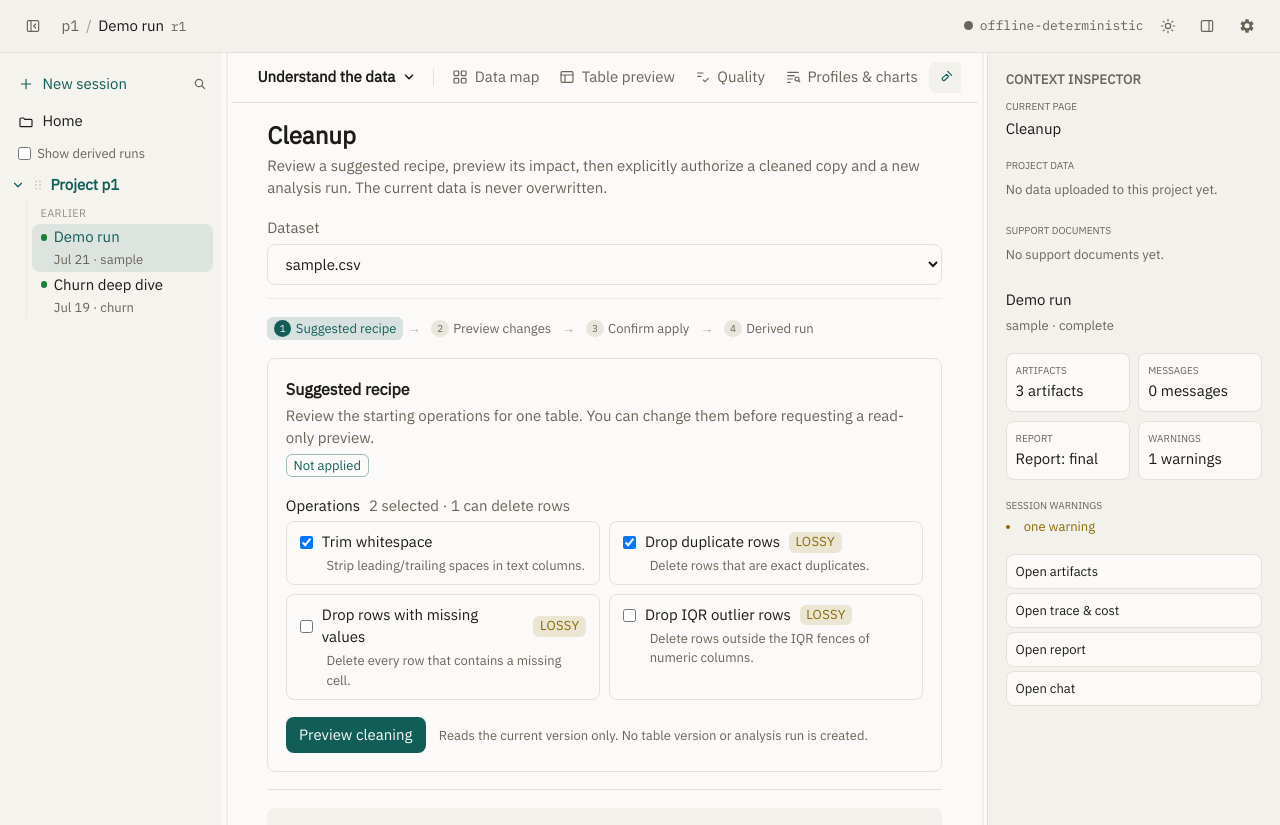
Test: Cleaning page › shows the whole preview → confirm → new run sequence up front
Expected: the text "Confirm apply" is shown, [608,320,689,337]
Expected: the text "Derived run" is shown, [746,320,814,337]
What coordinates should you click on to do the following:
click the button "Preview cleaning"
I would click on:
 (356, 735)
Its box is [286,717,426,753].
(page scrolled)
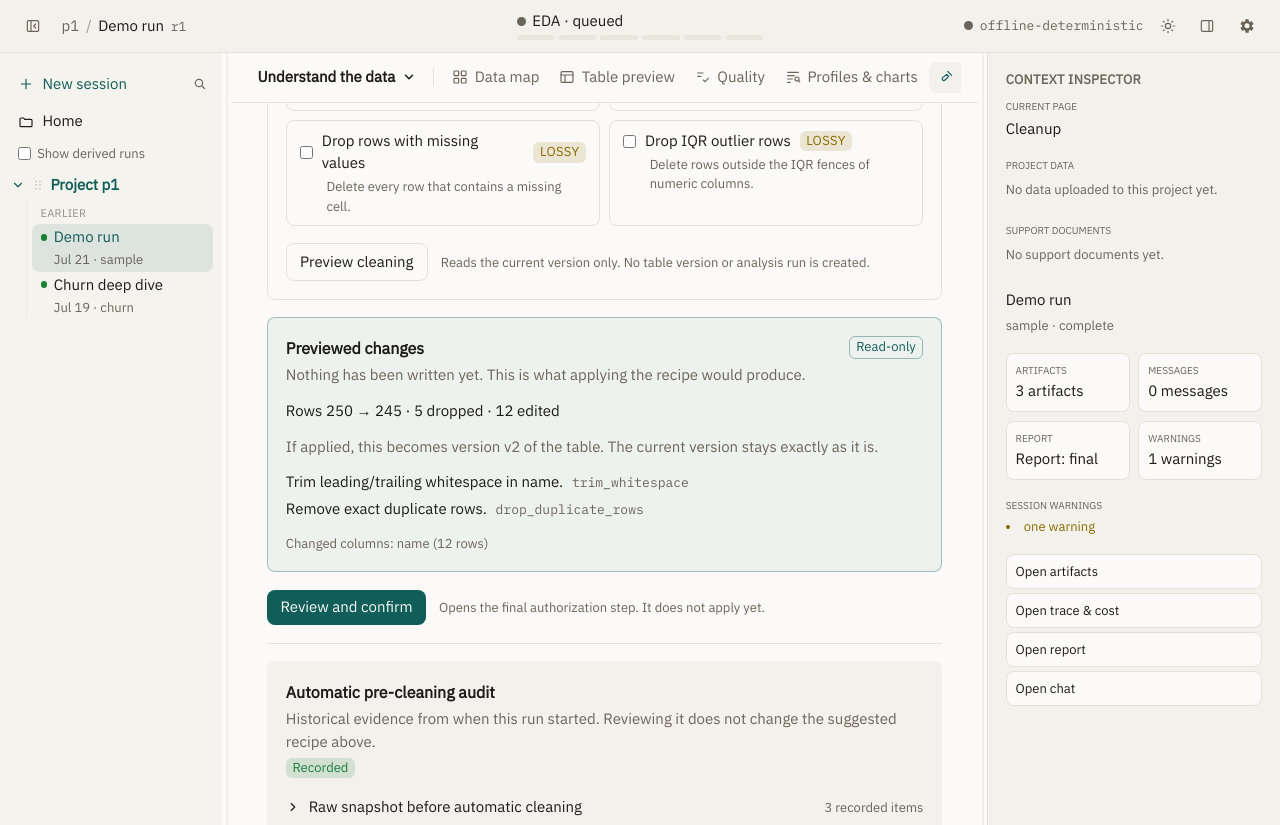
Result: the button "Review and confirm" is shown
What coordinates should you click on to do the following:
click the button "Review and confirm"
I would click on:
 (347, 607)
Its box is [267,590,426,625].
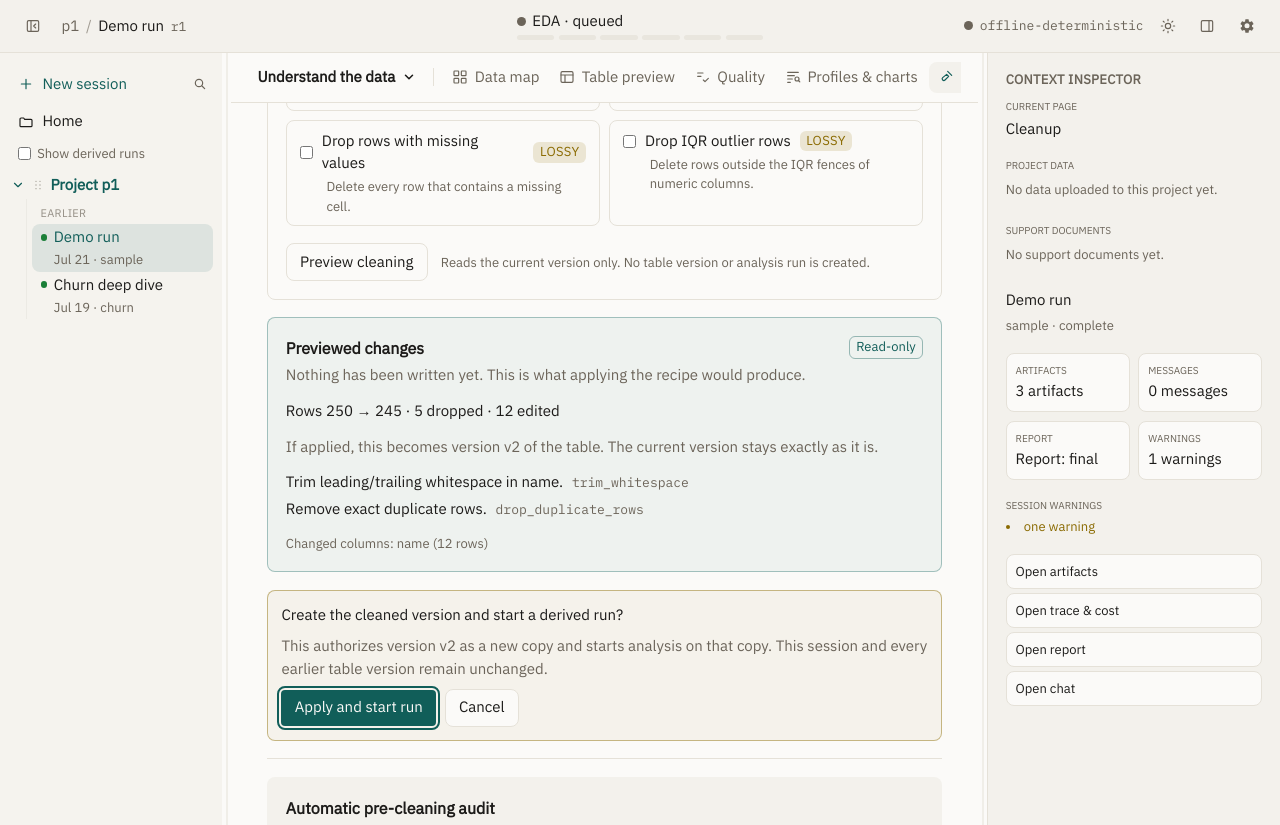
Result: the text "This session and every earlier table version remain unchanged" is shown at [282,636,927,678]
